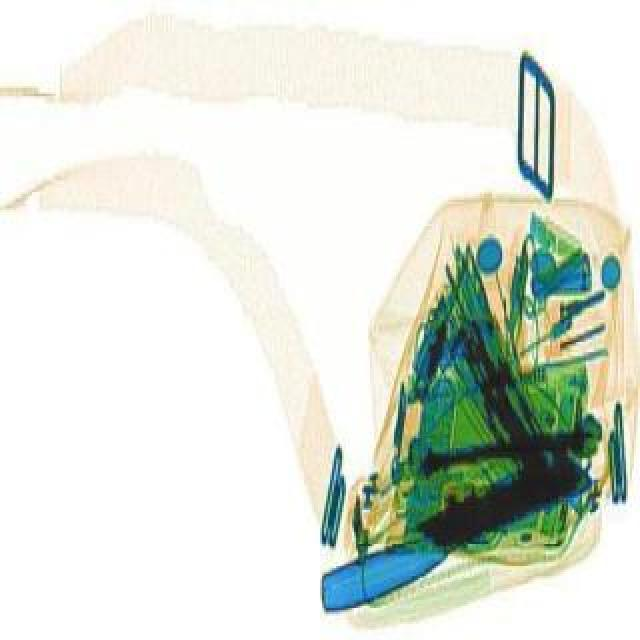knife: (310, 448, 598, 616)
